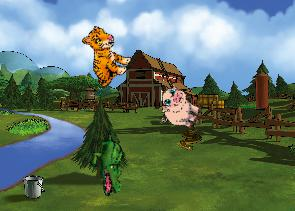crocodile: (80, 129, 138, 198)
pig: (153, 82, 207, 134)
tiger: (68, 22, 138, 91)
